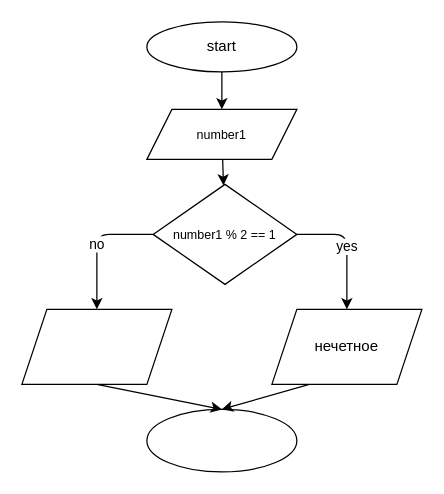
Some shapes in this 444 by 494 pixel diagram are drawn without their labels. Here are the shapes that lost their labels. From the top down, the centre of each, then its label:
(x=96, y=346): четное
(x=221, y=440): stop
